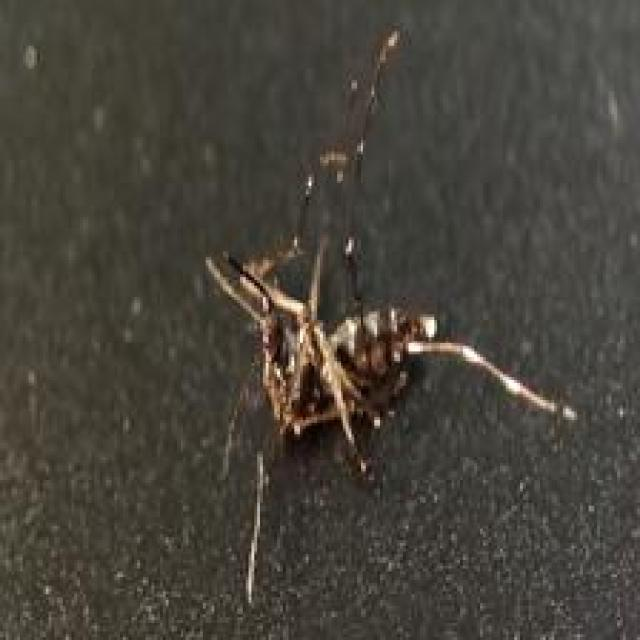Aedes albopictus: (203, 24, 580, 607)
